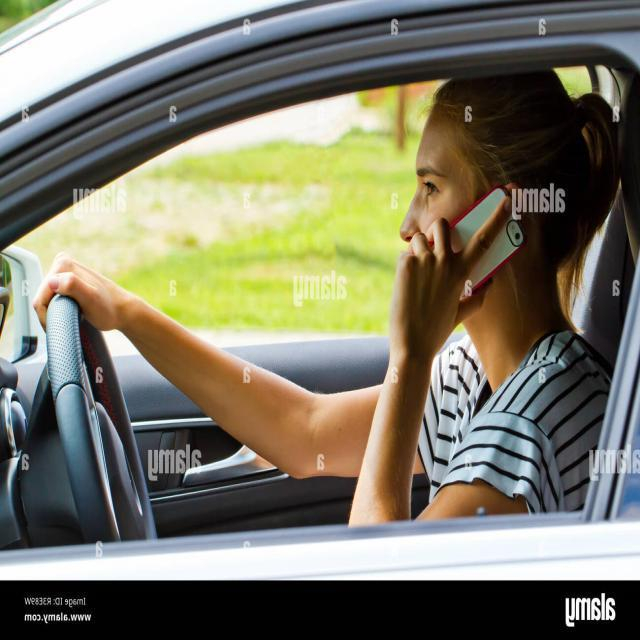phone: (419, 186, 528, 303)
